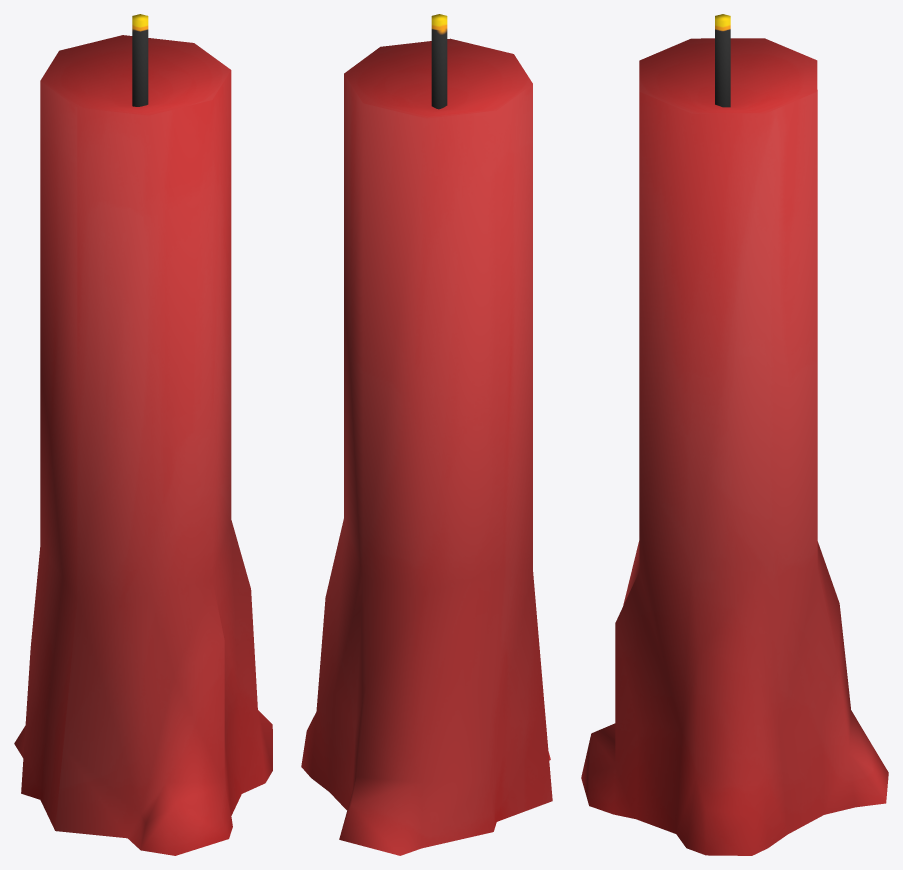
Rendered from Lazhu_1.FBX.
3 renders of one model, left to right at view 1: azimuth 30°, elevation 25°; view 2: azimuth 150°, elevation 25°; view 3: azimuth 270°, elevation 25°, orthographic.
Visible parts, largest first — view 1: 对象001; view 2: 对象001; view 3: 对象001.
Part boxes in pixels (bbox=[...]): 对象001: bbox=[14, 14, 272, 855]; 对象001: bbox=[301, 14, 552, 855]; 对象001: bbox=[581, 14, 888, 855].
Bounding box in the file's own units: 0.0375 × 0.1241 × 0.0444.
